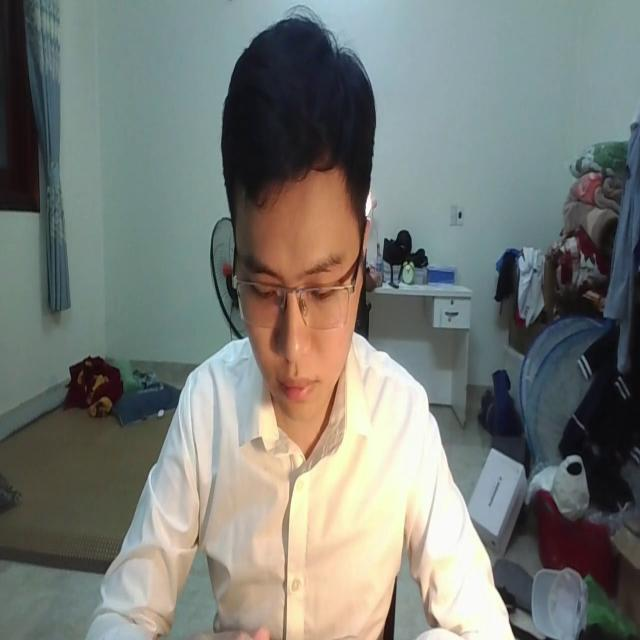student: (83, 10, 512, 640)
